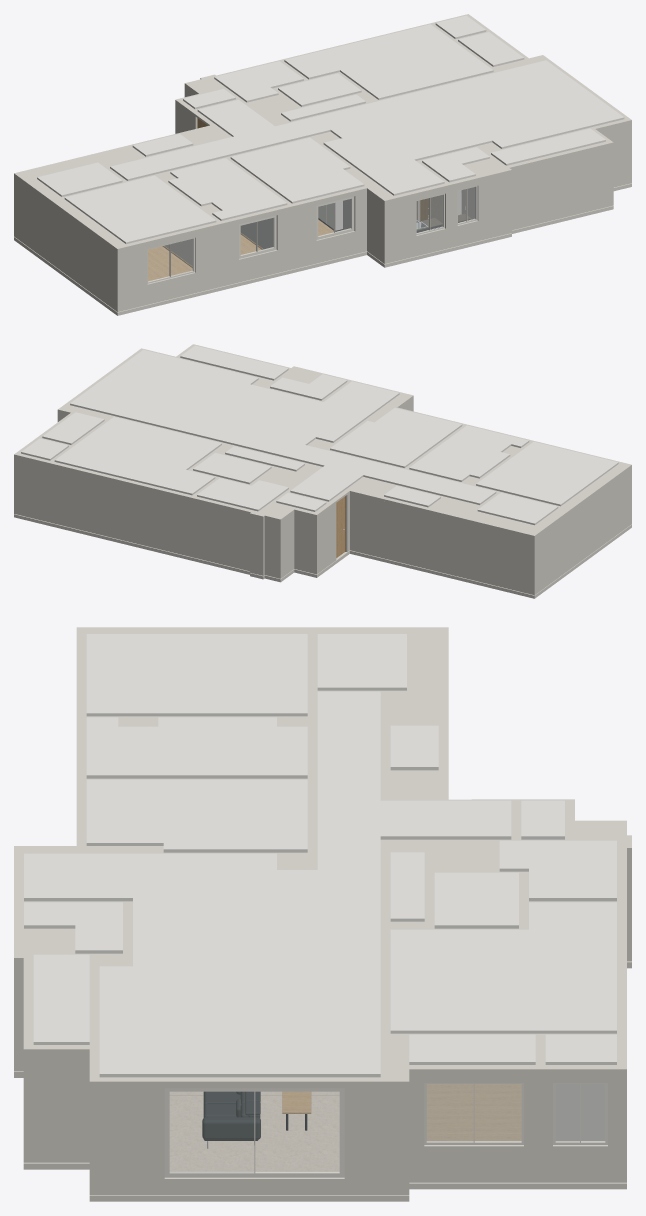
The model's file is acro168c-expanded.glb.
3 renders of one model, top to bottom at view 1: azimuth 30°, elevation 25°; view 2: azimuth 150°, elevation 25°; view 3: azimuth 270°, elevation 25°, orthographic. The views are drawn at different scales.
Parts seen in each view (by area): view 1: Ceiling/04, Wall/layer-07/00, Ceiling/09, Wall/layer-01/00, Wall/layer-00/00, Ceiling/05, Wall/layer-03/05, Ceiling/07, Wall/layer-03/00, Ceiling/06, Base/00, Wall/layer-03/03 (+29 smaller); view 2: Ceiling/04, Wall/layer-03/08, Wall/layer-07/00, Wall/layer-03/00, Ceiling/09, Wall/layer-00/00, Ceiling/05, Ceiling/07, Wall/layer-01/01, Ceiling/06, Wall/layer-01/00, Base/00 (+20 smaller); view 3: Ceiling/04, Wall/layer-07/00, Ceiling/09, Ceiling/05, Ceiling/07, Ceiling/06, Wall/layer-00/00, Floor/living-kitchen-hall, Wall/layer-03/05, Wall/layer-01/01, living-main-window/glass-1, living-main-window/glass-0 (+32 smaller).
Part boxes in pixels (x1,y1,x2,y2): Ceiling/04: [110, 60, 624, 195]; Wall/layer-07/00: [14, 14, 631, 250]; Ceiling/09: [284, 24, 493, 99]; Wall/layer-01/00: [14, 163, 631, 303]; Wall/layer-00/00: [14, 174, 631, 311]; Ceiling/05: [64, 175, 216, 244]; Wall/layer-03/05: [416, 127, 631, 218]; Ceiling/07: [230, 137, 364, 203]; Wall/layer-03/00: [14, 181, 145, 289]; Ceiling/06: [168, 158, 287, 220]; Base/00: [14, 183, 631, 315]; Wall/layer-03/03: [343, 196, 416, 241]; Ceiling/04: [70, 349, 496, 504]; Wall/layer-03/08: [14, 461, 336, 557]; Wall/layer-07/00: [14, 344, 631, 537]; Wall/layer-03/00: [346, 472, 631, 573]; Ceiling/09: [54, 417, 221, 495]; Wall/layer-00/00: [14, 505, 631, 595]; Ceiling/05: [476, 441, 618, 506]; Ceiling/07: [330, 408, 462, 467]; Wall/layer-01/01: [14, 495, 336, 570]; Ceiling/06: [409, 425, 529, 481]; Wall/layer-01/00: [346, 505, 631, 586]; Base/00: [14, 514, 631, 598]; Ceiling/04: [24, 691, 511, 1077]; Wall/layer-07/00: [14, 627, 631, 1085]; Ceiling/09: [390, 902, 616, 1033]; Ceiling/05: [86, 634, 307, 716]; Ceiling/07: [86, 779, 307, 852]; Ceiling/06: [86, 717, 307, 778]; Wall/layer-00/00: [14, 945, 631, 1194]; Floor/living-kitchen-hall: [169, 1091, 339, 1171]; Wall/layer-03/05: [14, 971, 164, 1153]; Wall/layer-01/01: [344, 925, 631, 1178]; living-main-window/glass-1: [170, 1092, 253, 1172]; living-main-window/glass-0: [255, 1092, 339, 1171].
Size of the model in its own units: 21.48 by 2.72 by 12.35.
Materials: 26 (9 with a texture image).
